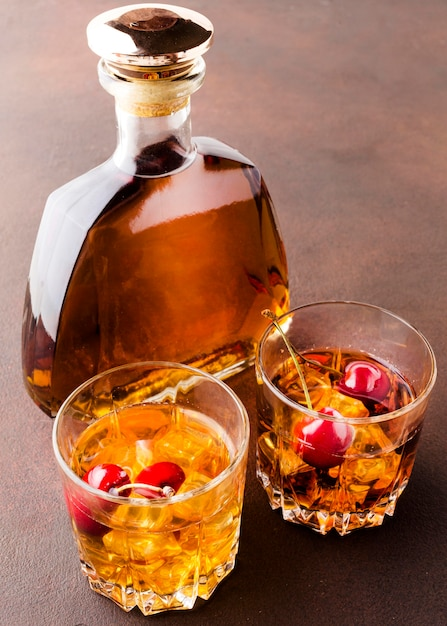alcohol: (22, 4, 293, 424), (51, 365, 253, 618), (248, 298, 441, 540)
